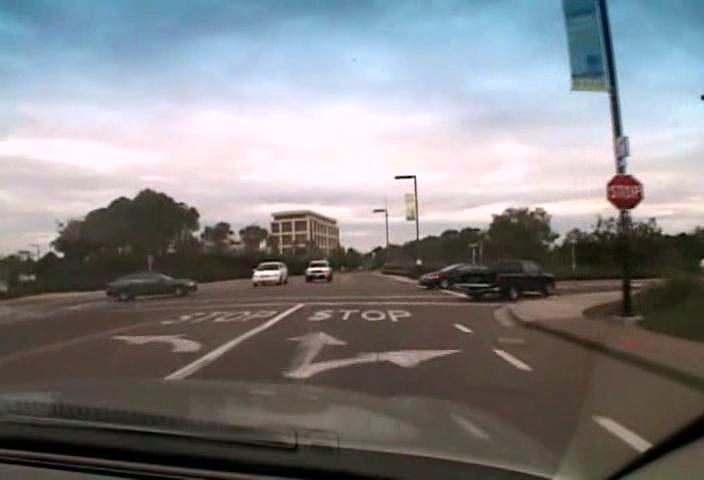stop: (606, 173, 644, 209)
